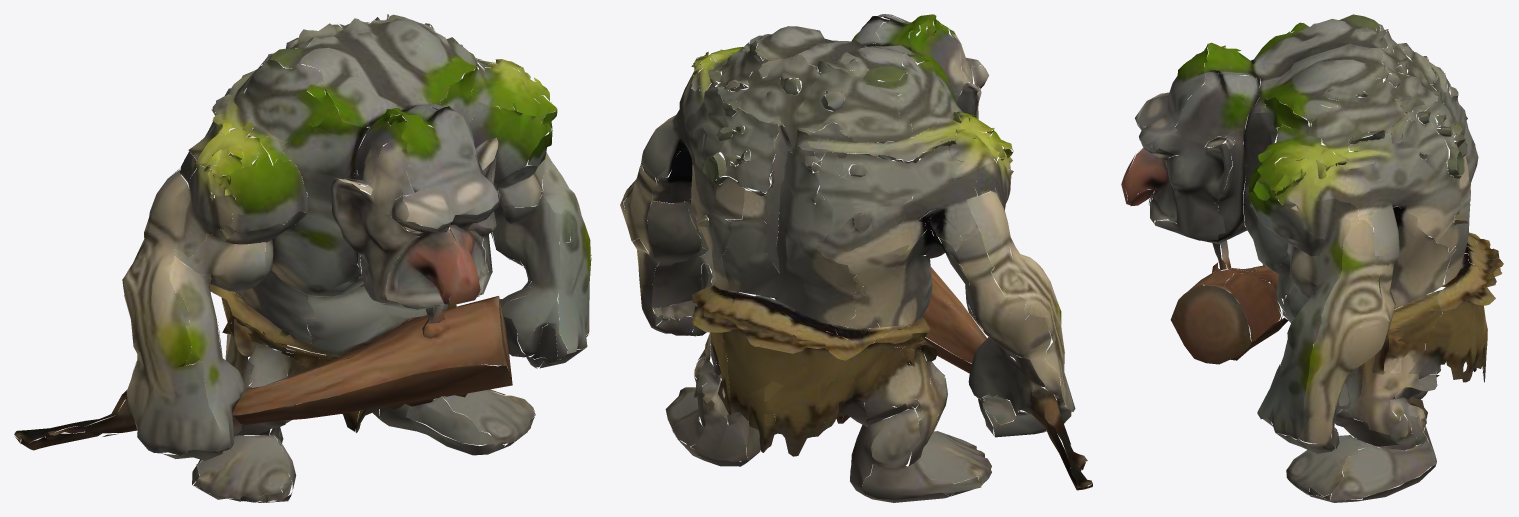
Rendered from troll.glb.
3 views of the same model, side by side, from view 1: azimuth 30°, elevation 25°; view 2: azimuth 150°, elevation 25°; view 3: azimuth 270°, elevation 25° (orthographic). The views are drawn at different scales.
Parts seen in each view (by area): view 1: geometry_0; view 2: geometry_0; view 3: geometry_0.
Boxes of the visible parts, x1,y1,x2,y2 form: geometry_0: (14,14,591,502); geometry_0: (620,14,1092,502); geometry_0: (1121,14,1503,502).
Size of the model in its own units: 1 by 0.7931 by 0.6935.
1 material, 1 textured.
